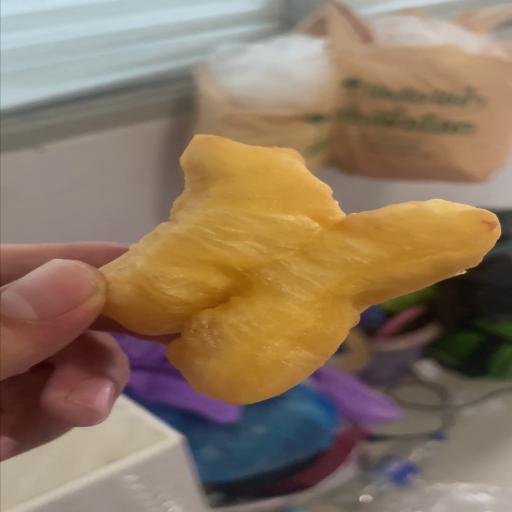street_golden_good: (101, 135, 500, 405)
